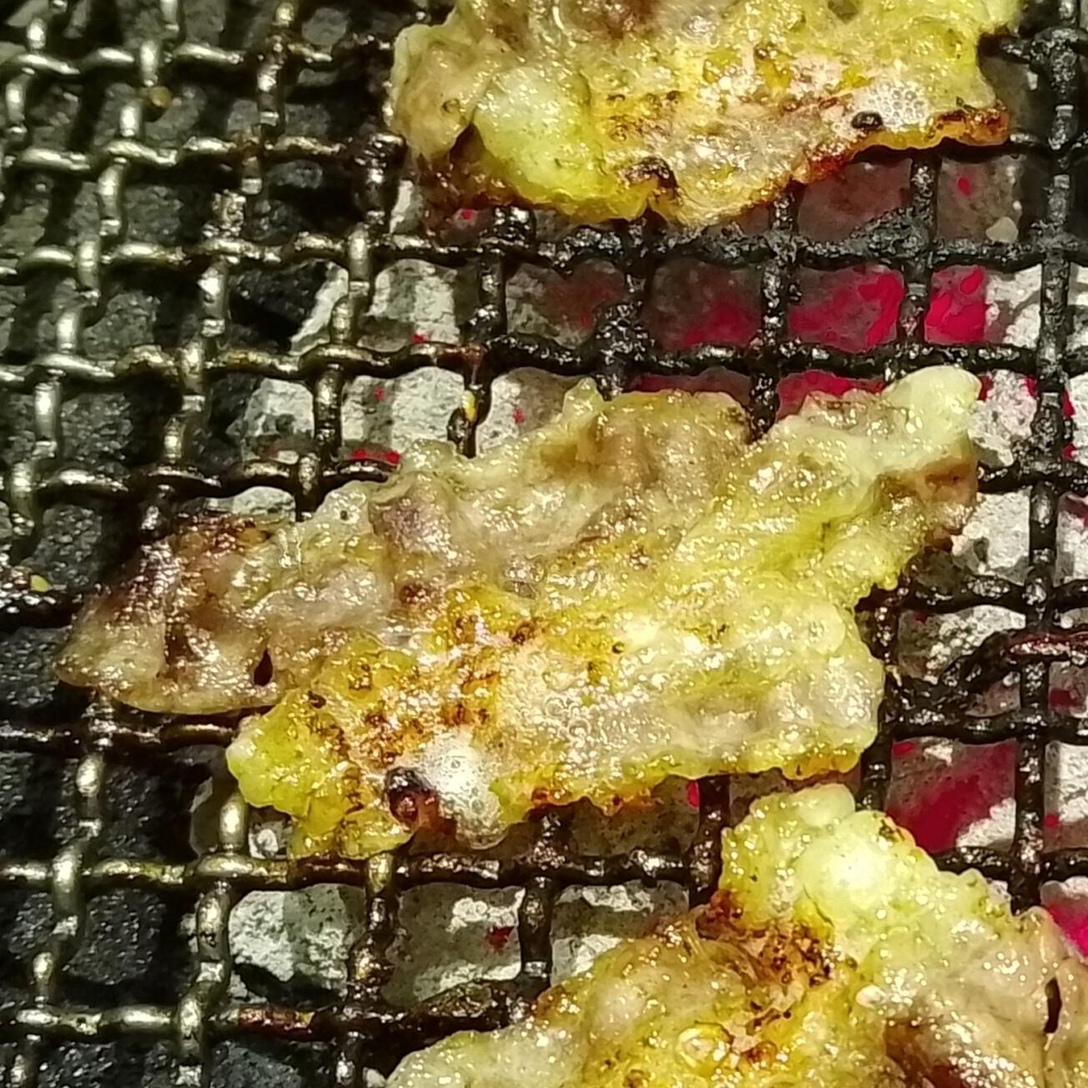Well-Cooked: (54, 375, 986, 867), (388, 784, 1087, 1087), (384, 0, 1046, 231)
